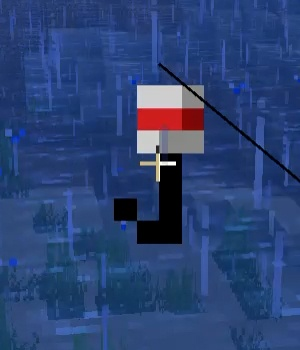up: (111, 77, 209, 248)
